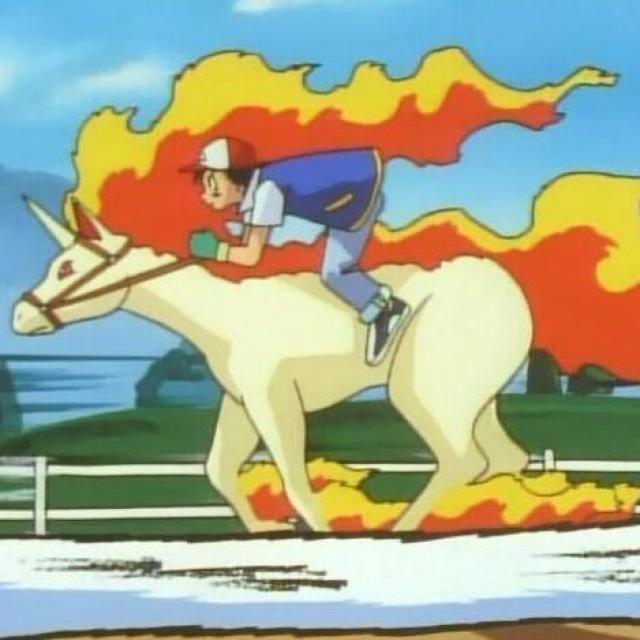Rapidash: (16, 162, 538, 533)
